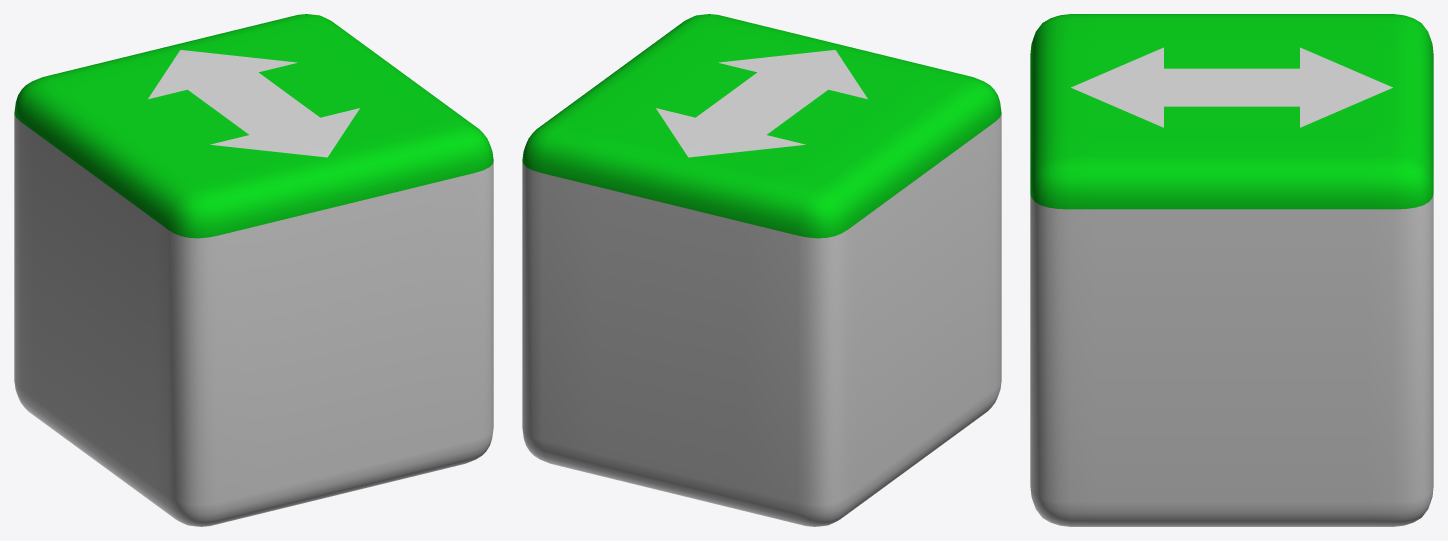
3 renders of one model, left to right at view 1: azimuth 30°, elevation 25°; view 2: azimuth 150°, elevation 25°; view 3: azimuth 270°, elevation 25°, orthographic. The views are drawn at different scales.
Visible parts, largest first — view 1: Box043; view 2: Box043; view 3: Box043.
Boxes of the visible parts, x1,y1,x2,y2 form: Box043: (14,14,493,526); Box043: (522,14,1001,526); Box043: (1030,14,1433,526).
Size of the model in its own units: 10 by 10 by 10.
